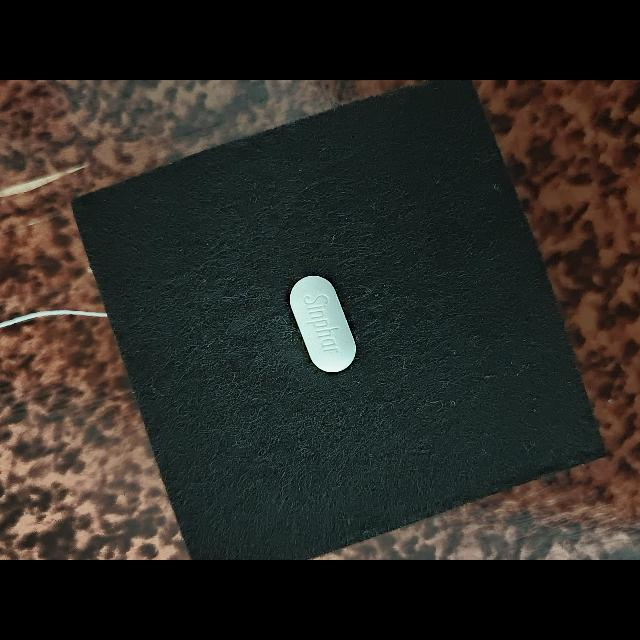Intact Pill: (290, 276, 356, 373)
